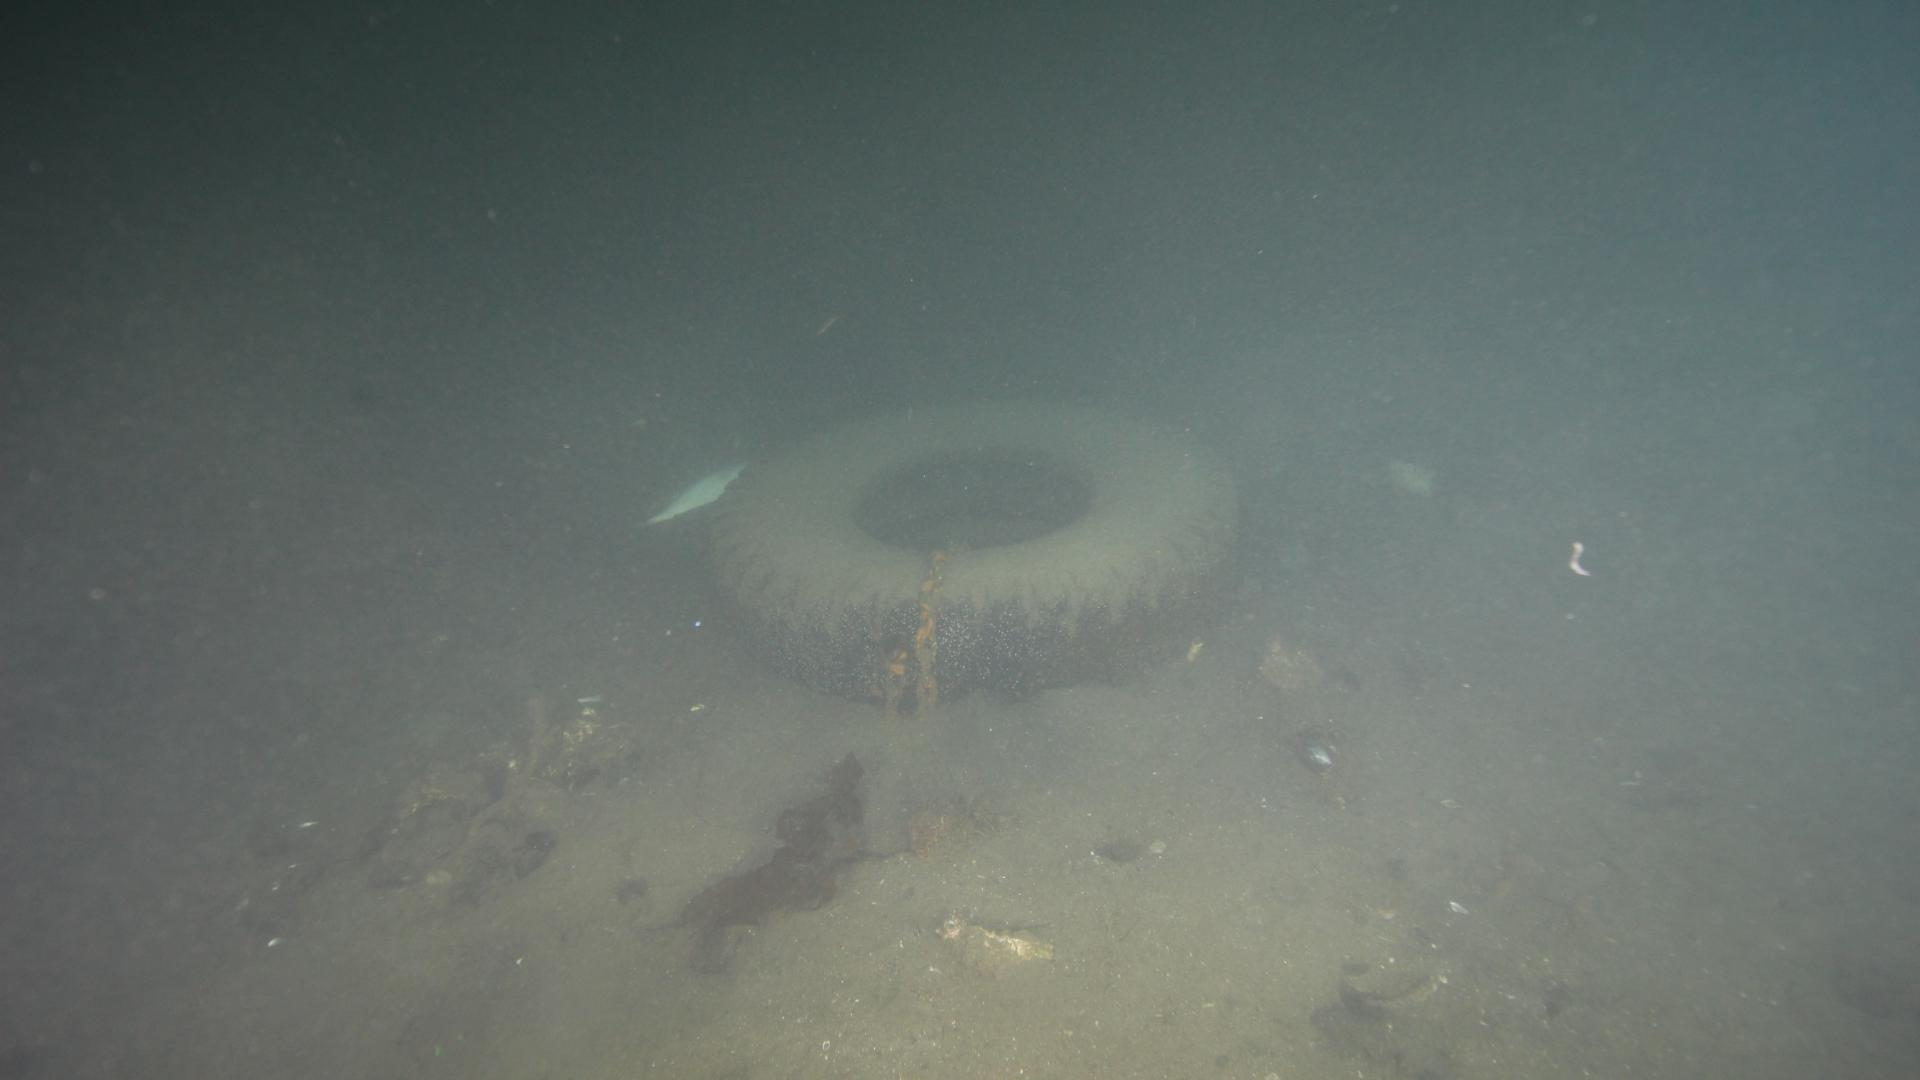tire: (703, 394, 1240, 720)
